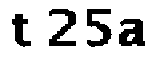2: (45, 6, 78, 47)
5: (84, 7, 116, 48)
a: (117, 17, 149, 48)
t: (8, 10, 33, 49)
